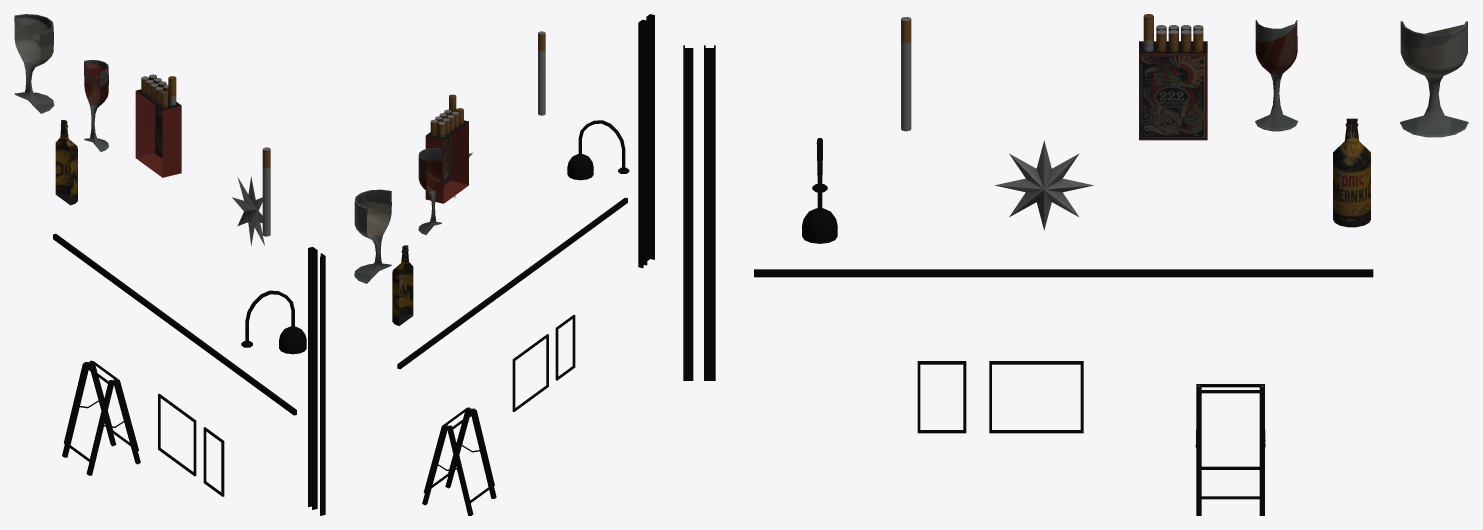
Rendered from Adverts Emission.fbx.
3 renders of one model, left to right at view 1: azimuth 30°, elevation 25°; view 2: azimuth 150°, elevation 25°; view 3: azimuth 270°, elevation 25°, orthographic. The views are drawn at different scales.
Visible parts, largest first — view 1: Cube.008; view 2: Cube.008; view 3: Cube.008.
Boxes of the visible parts, box(x1,y1,x2,y2) form: Cube.008: box(14, 14, 325, 515); Cube.008: box(354, 14, 654, 515); Cube.008: box(683, 14, 1468, 515).
Bounding box in the file's own units: 157 × 542 × 758.
